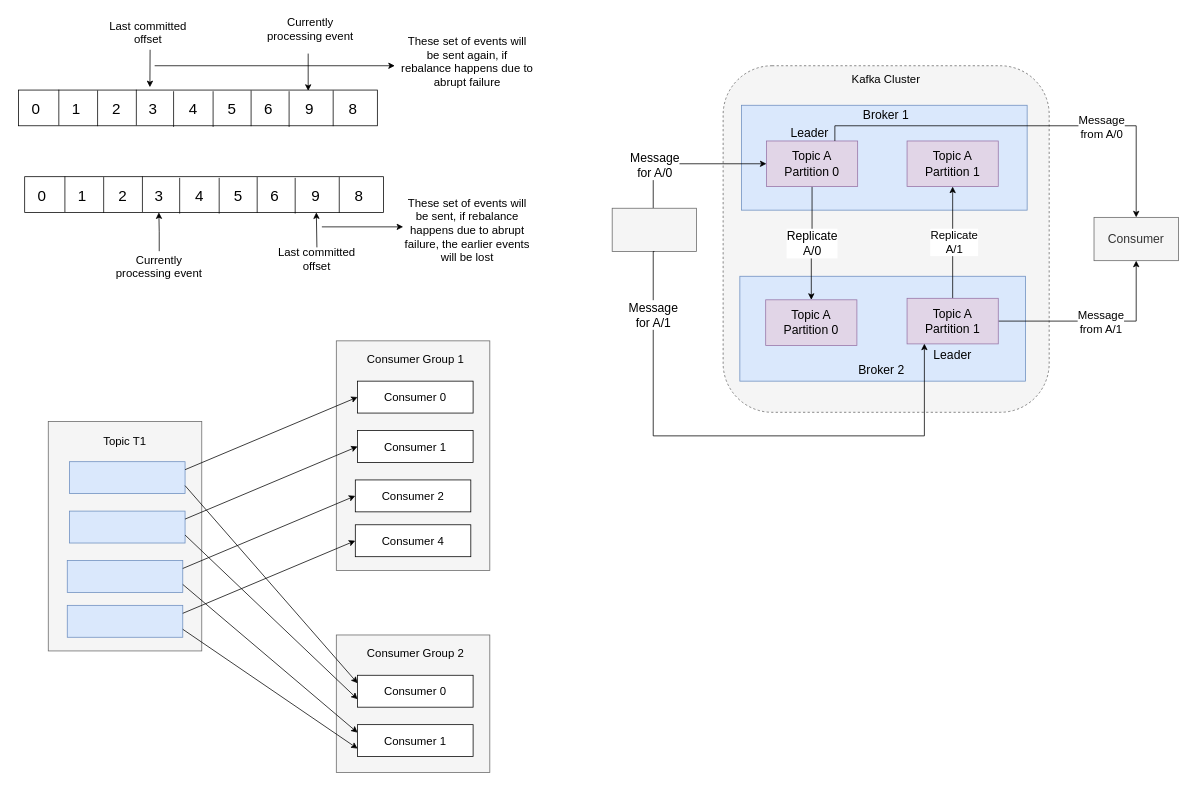
Some shapes in this 1192 by 786 pixel diagram are drawn without their labels. The box of each missing label's shape, as (x1, y1, x2, y2) in pixels:
Partition 0: (69, 461, 185, 494)
Partition 1: (69, 510, 185, 543)
Partition 2: (66, 560, 183, 592)
Partition 3: (66, 605, 183, 637)
Producer: (611, 207, 697, 252)
